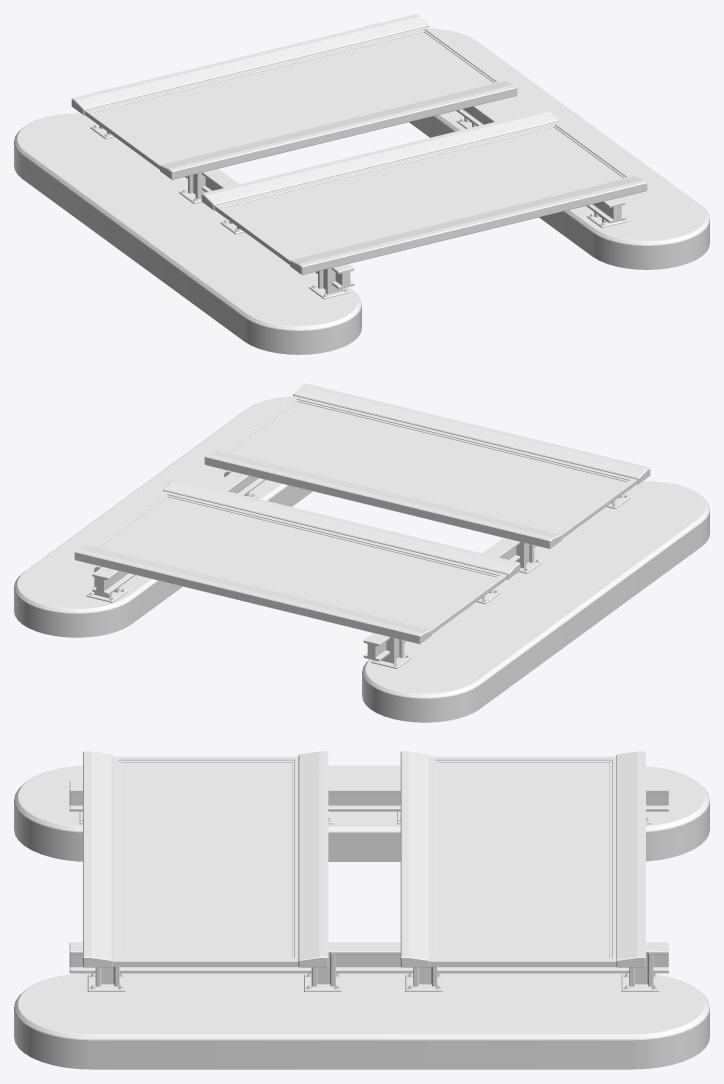
File: KB3D_FTW_PropPlatform_A_grp.glb
3 views of the same model, one above another, from view 1: azimuth 30°, elevation 25°; view 2: azimuth 150°, elevation 25°; view 3: azimuth 270°, elevation 25° (orthographic). The views are drawn at different scales.
Parts seen in each view (by area): view 1: KB3D_FTW_PropPlatform_A_Main; view 2: KB3D_FTW_PropPlatform_A_Main; view 3: KB3D_FTW_PropPlatform_A_Main.
Boxes of the visible parts, box(x1,y1,x2,y2) form: KB3D_FTW_PropPlatform_A_Main: box(14, 14, 709, 354); KB3D_FTW_PropPlatform_A_Main: box(14, 383, 709, 722); KB3D_FTW_PropPlatform_A_Main: box(14, 751, 709, 1069).
Bounding box in the file's own units: 5.8 × 0.7774 × 6.27.
6 materials, 1 textured.
